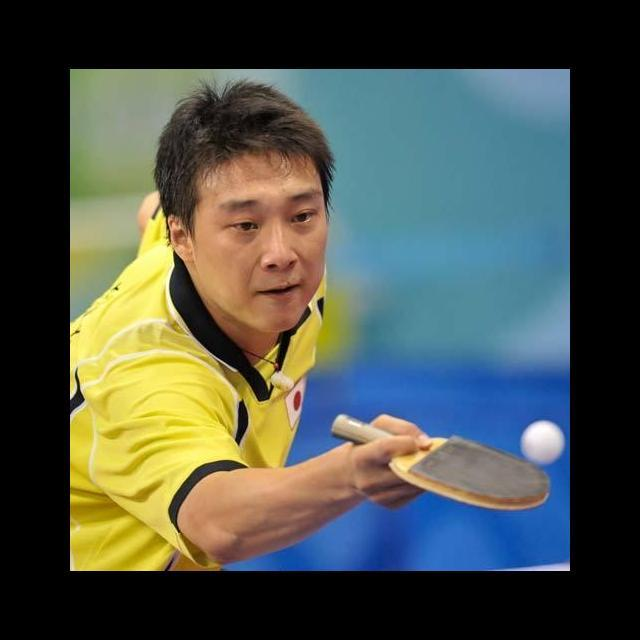ping-pong-ball: (519, 418, 568, 466)
